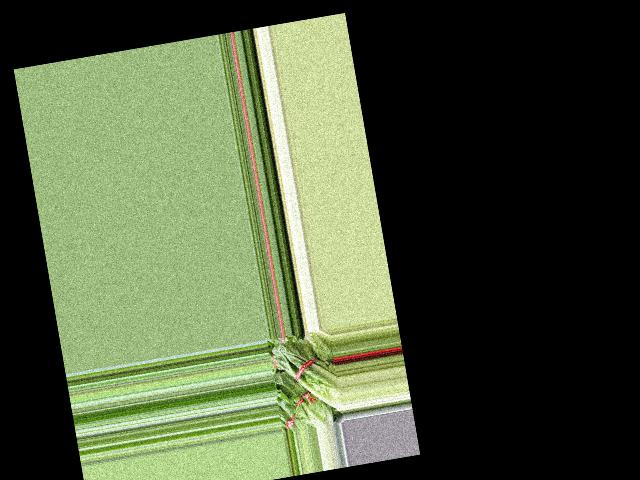lettuce: (270, 333, 343, 419)
